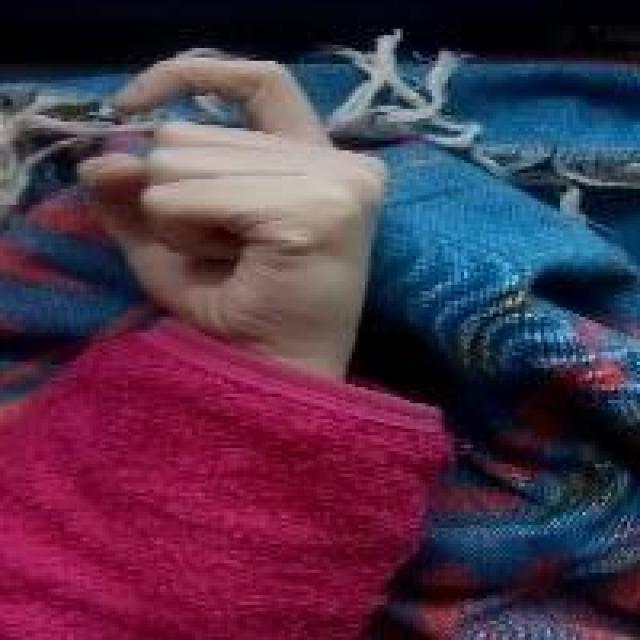X: (75, 45, 395, 342)
